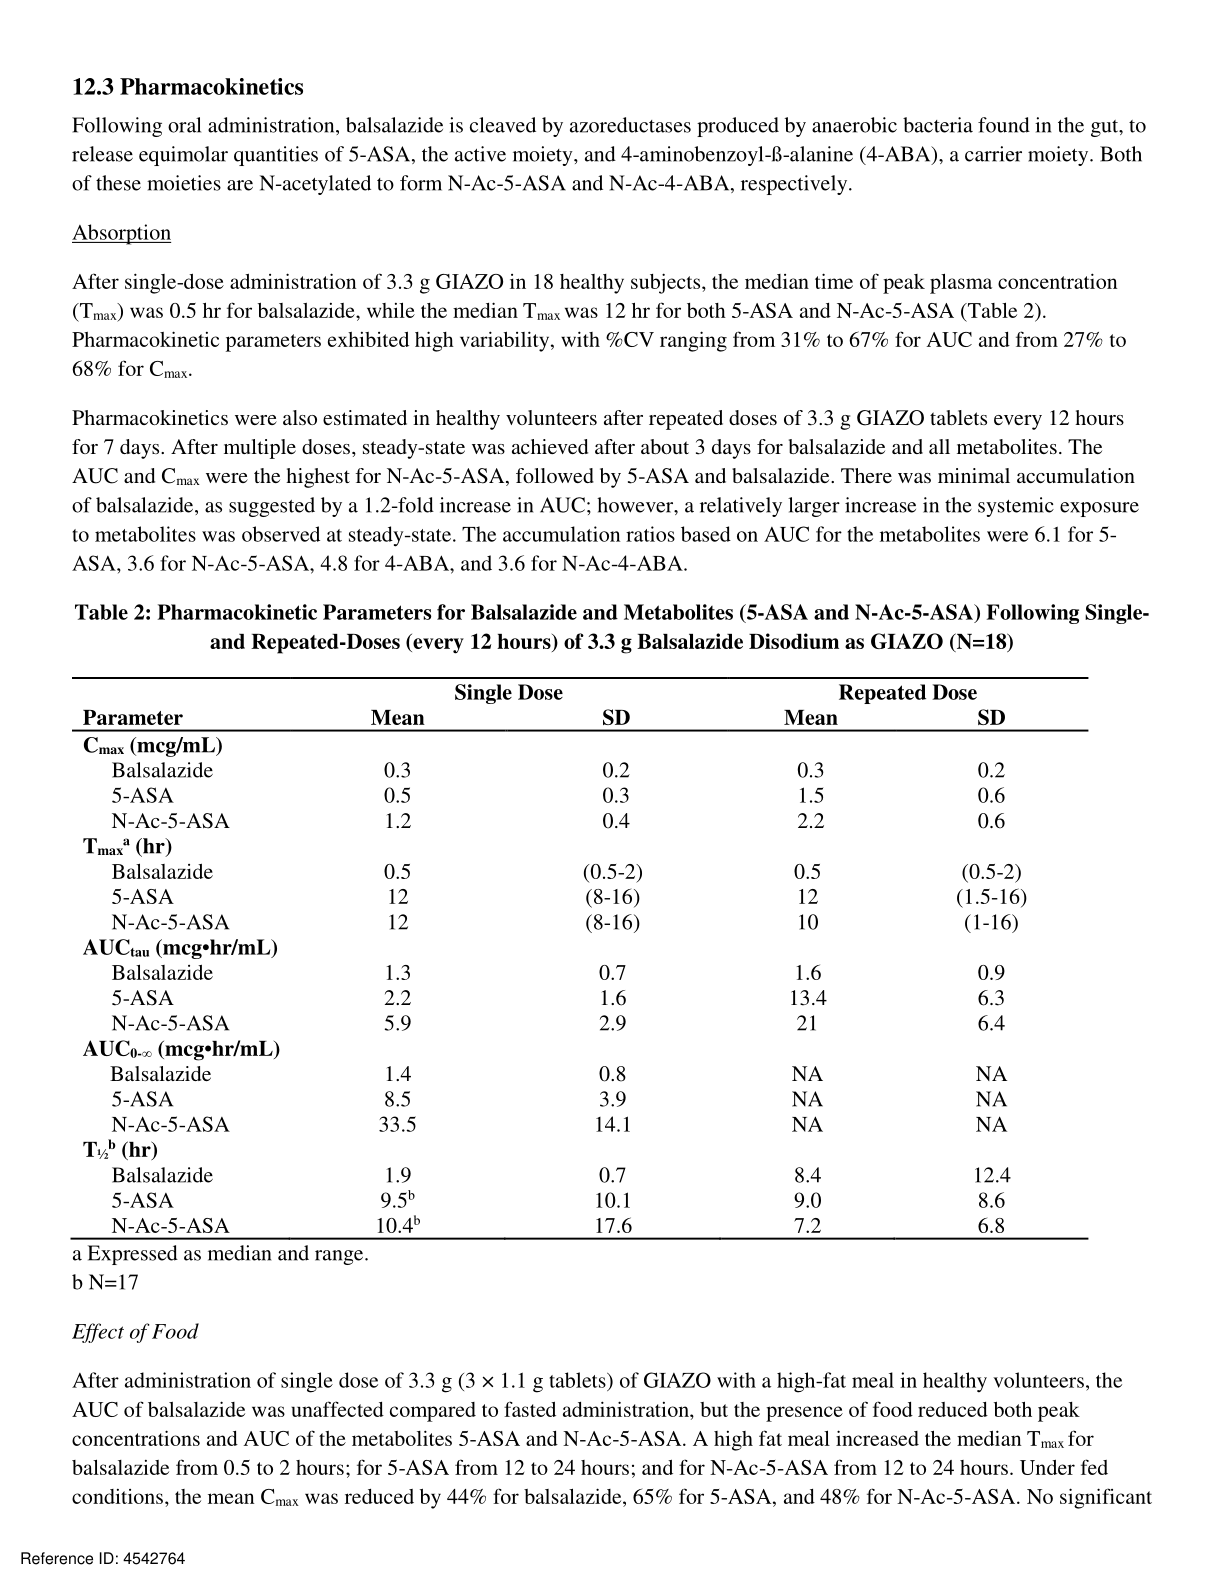partial_lined_merged_cells: (71, 676, 1090, 1241)
